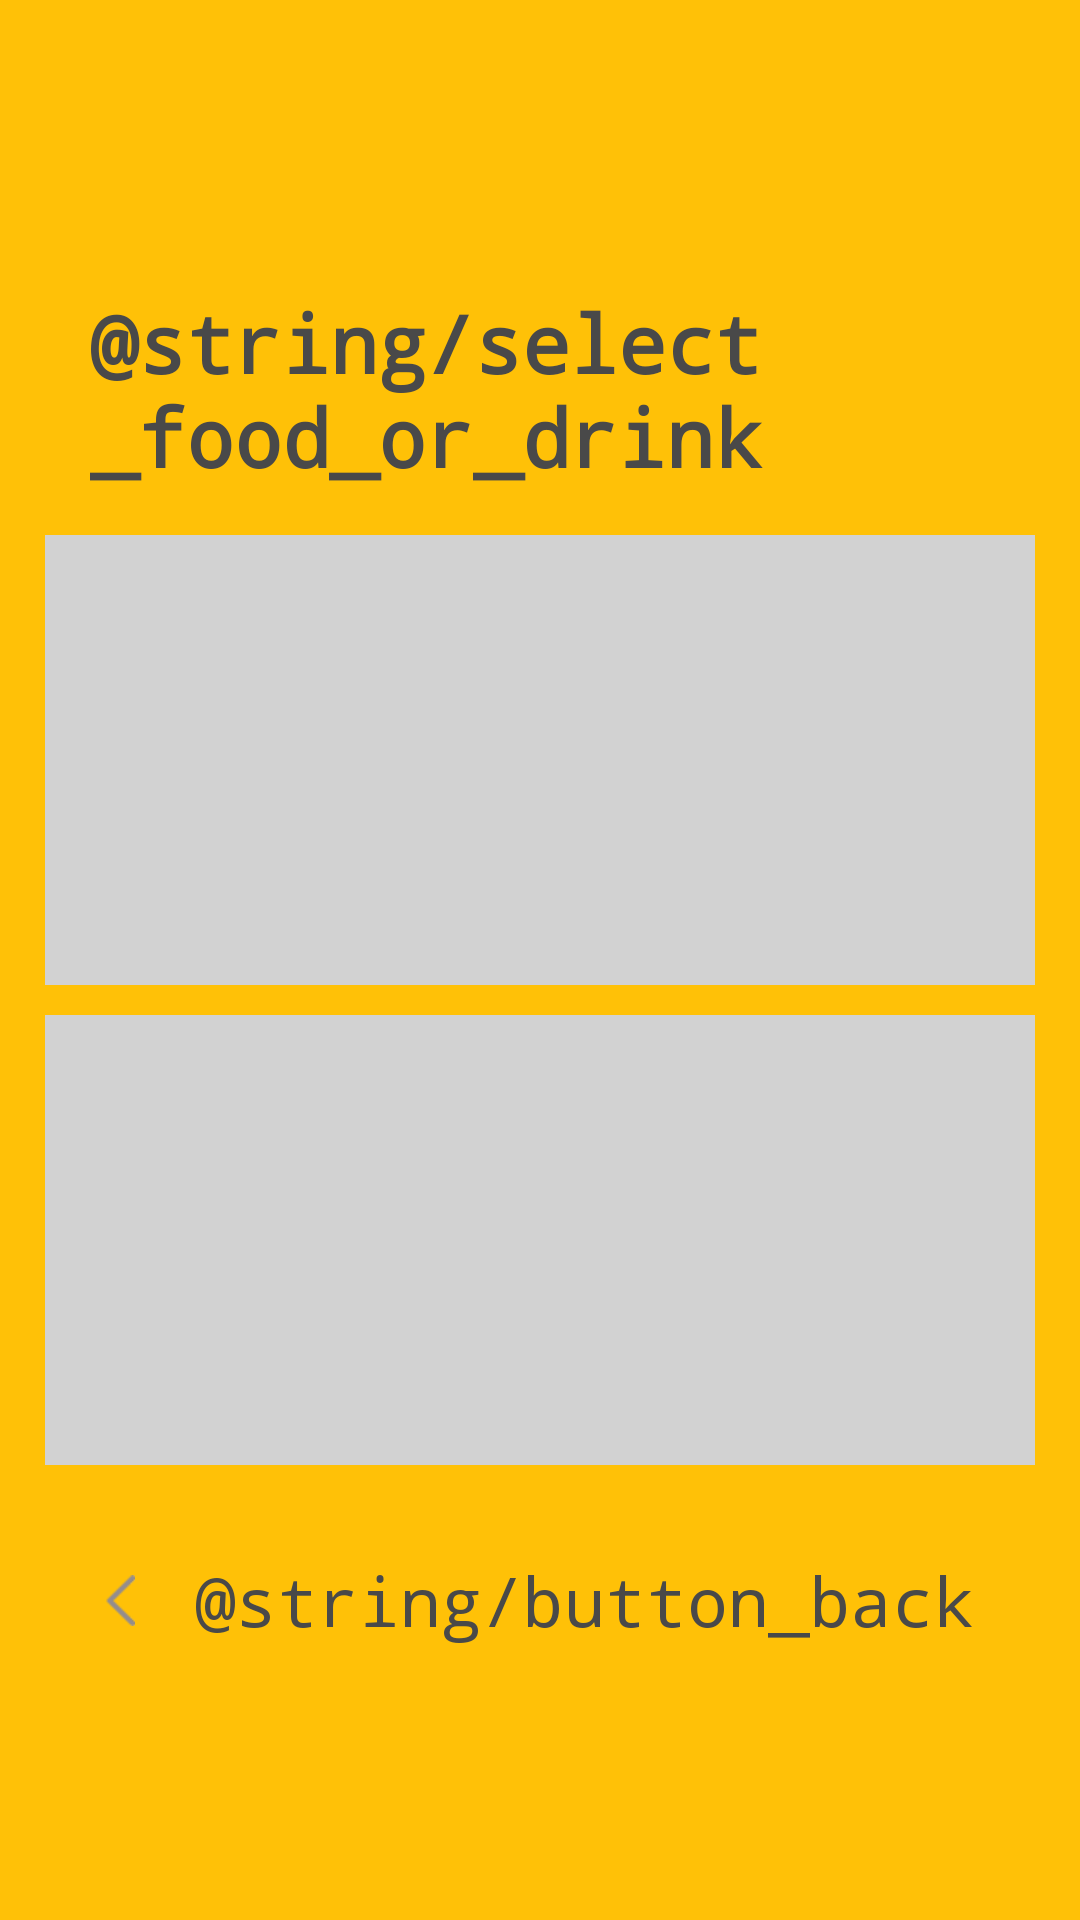

Icons on this 1080*1920 Android screen, each with its box as [x1,y1,x2,y2]:
iph nav back: [106,1575,135,1626]
